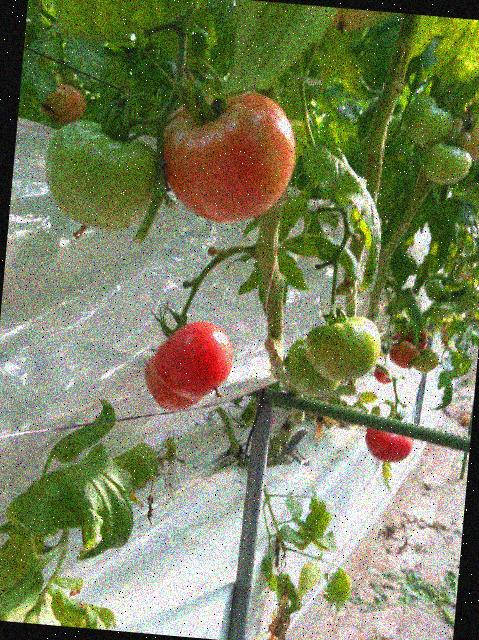b_fully_ripened: (150, 317, 235, 402), (140, 352, 206, 413), (361, 426, 413, 464)
b_green: (38, 116, 159, 235), (301, 311, 383, 384), (281, 335, 343, 399), (400, 93, 455, 149), (418, 138, 473, 186), (327, 7, 398, 30), (413, 347, 440, 373), (423, 277, 445, 301), (21, 17, 30, 67)
b_half_ripened: (155, 85, 300, 228), (37, 82, 85, 125), (440, 111, 479, 162), (387, 339, 422, 370)
